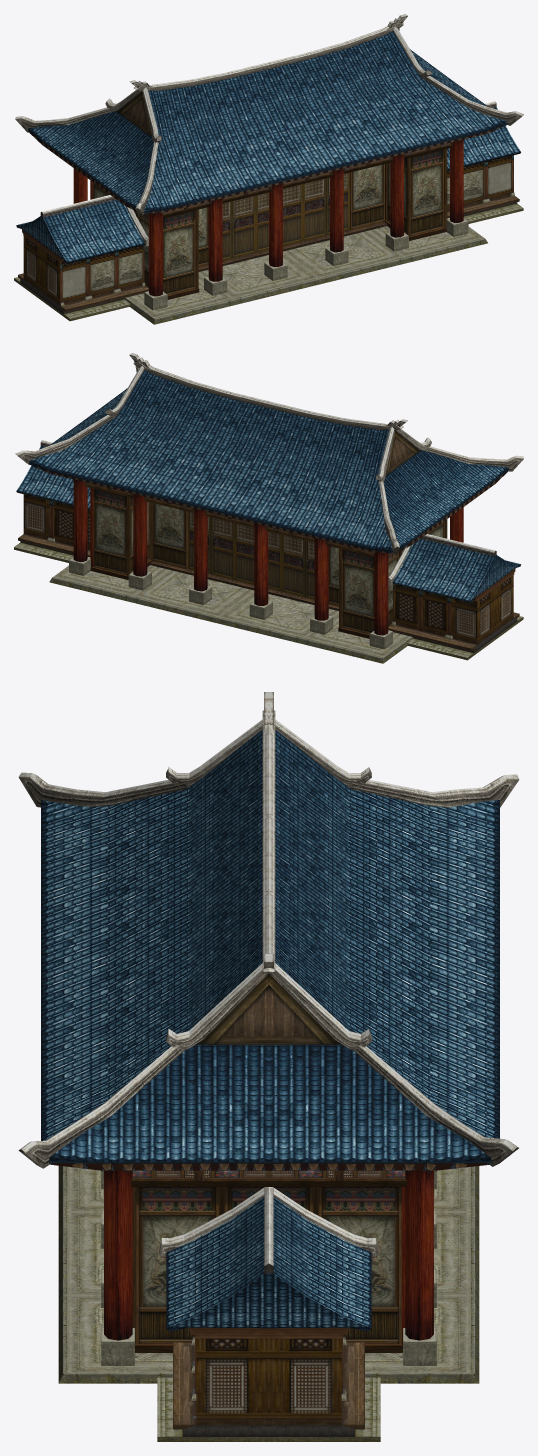
The model's file is secret_door_01.glb.
3 renders of one model, top to bottom at view 1: azimuth 30°, elevation 25°; view 2: azimuth 150°, elevation 25°; view 3: azimuth 270°, elevation 25°, orthographic. The views are drawn at different scales.
Parts seen in each view (by area): view 1: secret_door_01; view 2: secret_door_01; view 3: secret_door_01.
Part boxes in pixels (x1,y1,x2,y2): secret_door_01: (14, 14, 523, 324); secret_door_01: (14, 353, 523, 663); secret_door_01: (18, 692, 519, 1441).
Size of the model in its own units: 60 by 24.88 by 28.7.
Materials: 7 (7 with a texture image).
